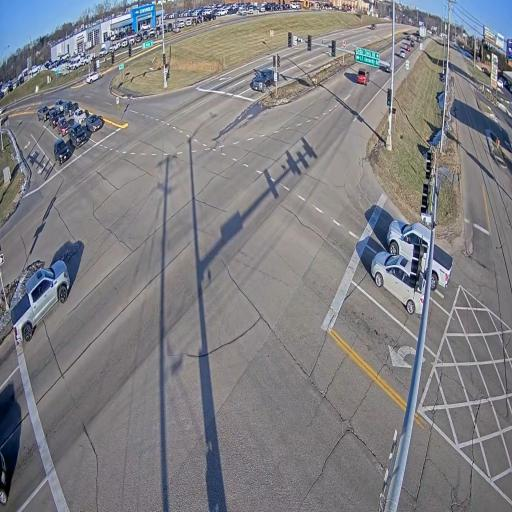pickup: (10, 260, 70, 343), (386, 220, 430, 271), (430, 245, 452, 290), (251, 69, 274, 92), (69, 122, 87, 147), (38, 105, 49, 120)
sedan: (370, 251, 425, 314), (86, 114, 102, 132), (74, 109, 86, 124), (406, 35, 410, 40)
suv: (54, 138, 71, 165), (63, 100, 76, 117), (58, 117, 69, 136), (357, 68, 369, 85), (85, 72, 103, 83), (50, 109, 60, 128), (54, 99, 64, 112), (399, 48, 405, 58), (370, 24, 375, 29), (407, 45, 411, 51), (416, 36, 420, 42), (411, 41, 414, 46)
truck: (419, 27, 426, 37)
